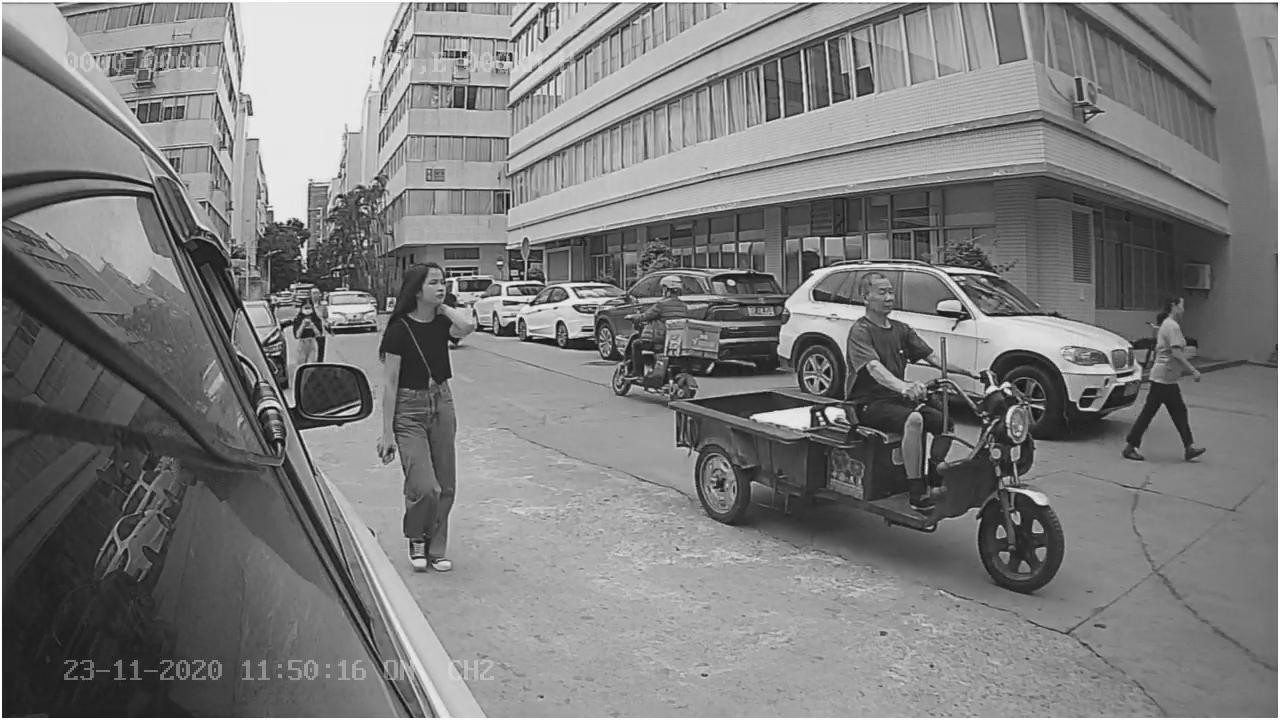person: (379, 255, 475, 562), (1122, 278, 1215, 473), (846, 270, 962, 398)
